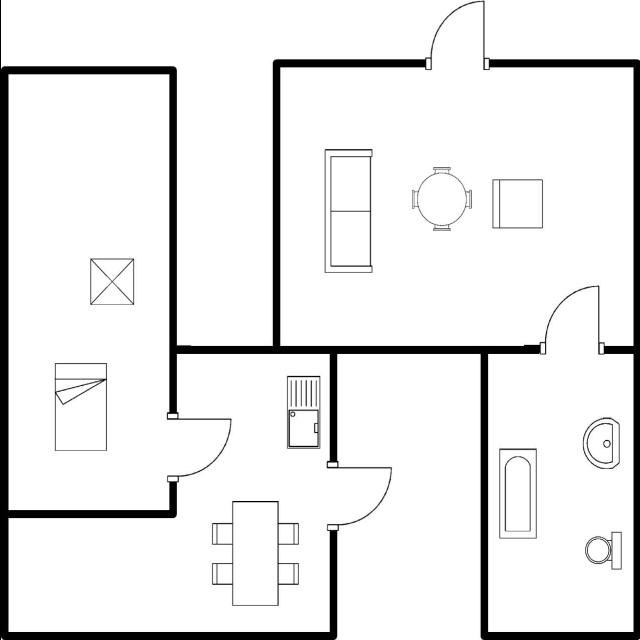bed: (46, 356, 114, 454)
coffee_table: (86, 254, 136, 312)
dining_table: (208, 491, 306, 611)
large_sink: (582, 524, 626, 574)
large_sofa: (318, 144, 378, 284)
round_table: (406, 162, 476, 237)
sink: (282, 371, 324, 453)
small_sink: (579, 410, 623, 470)
small_sofa: (488, 172, 546, 235)
tub: (494, 441, 540, 542)
